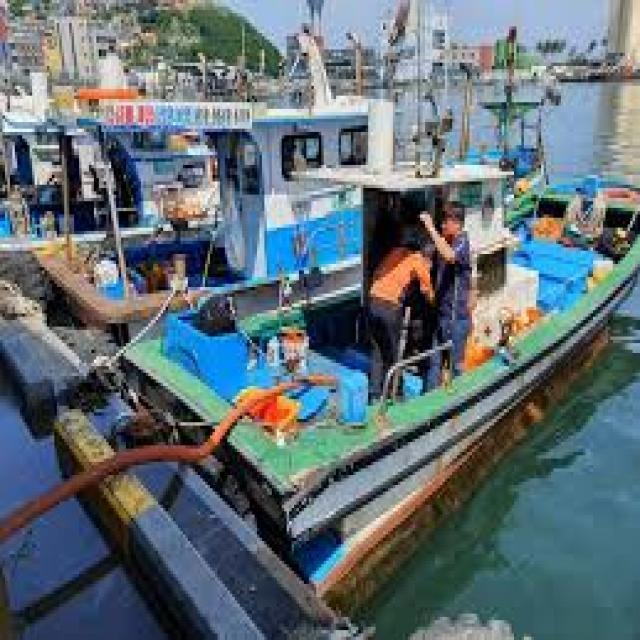Ship: (117, 163, 640, 615), (43, 60, 453, 331)
